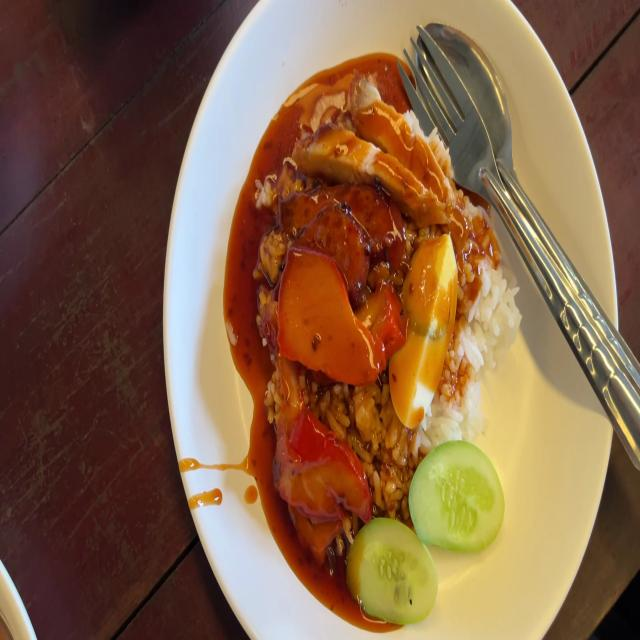01chainese_sausage: (287, 170, 407, 274)
01crispy_pork: (283, 80, 466, 219)
01red_pork: (279, 248, 393, 373), (279, 394, 361, 552)
01red_pork_and_crispy_pork: (268, 84, 521, 627)
cucumber: (409, 438, 505, 553), (347, 510, 438, 622)
